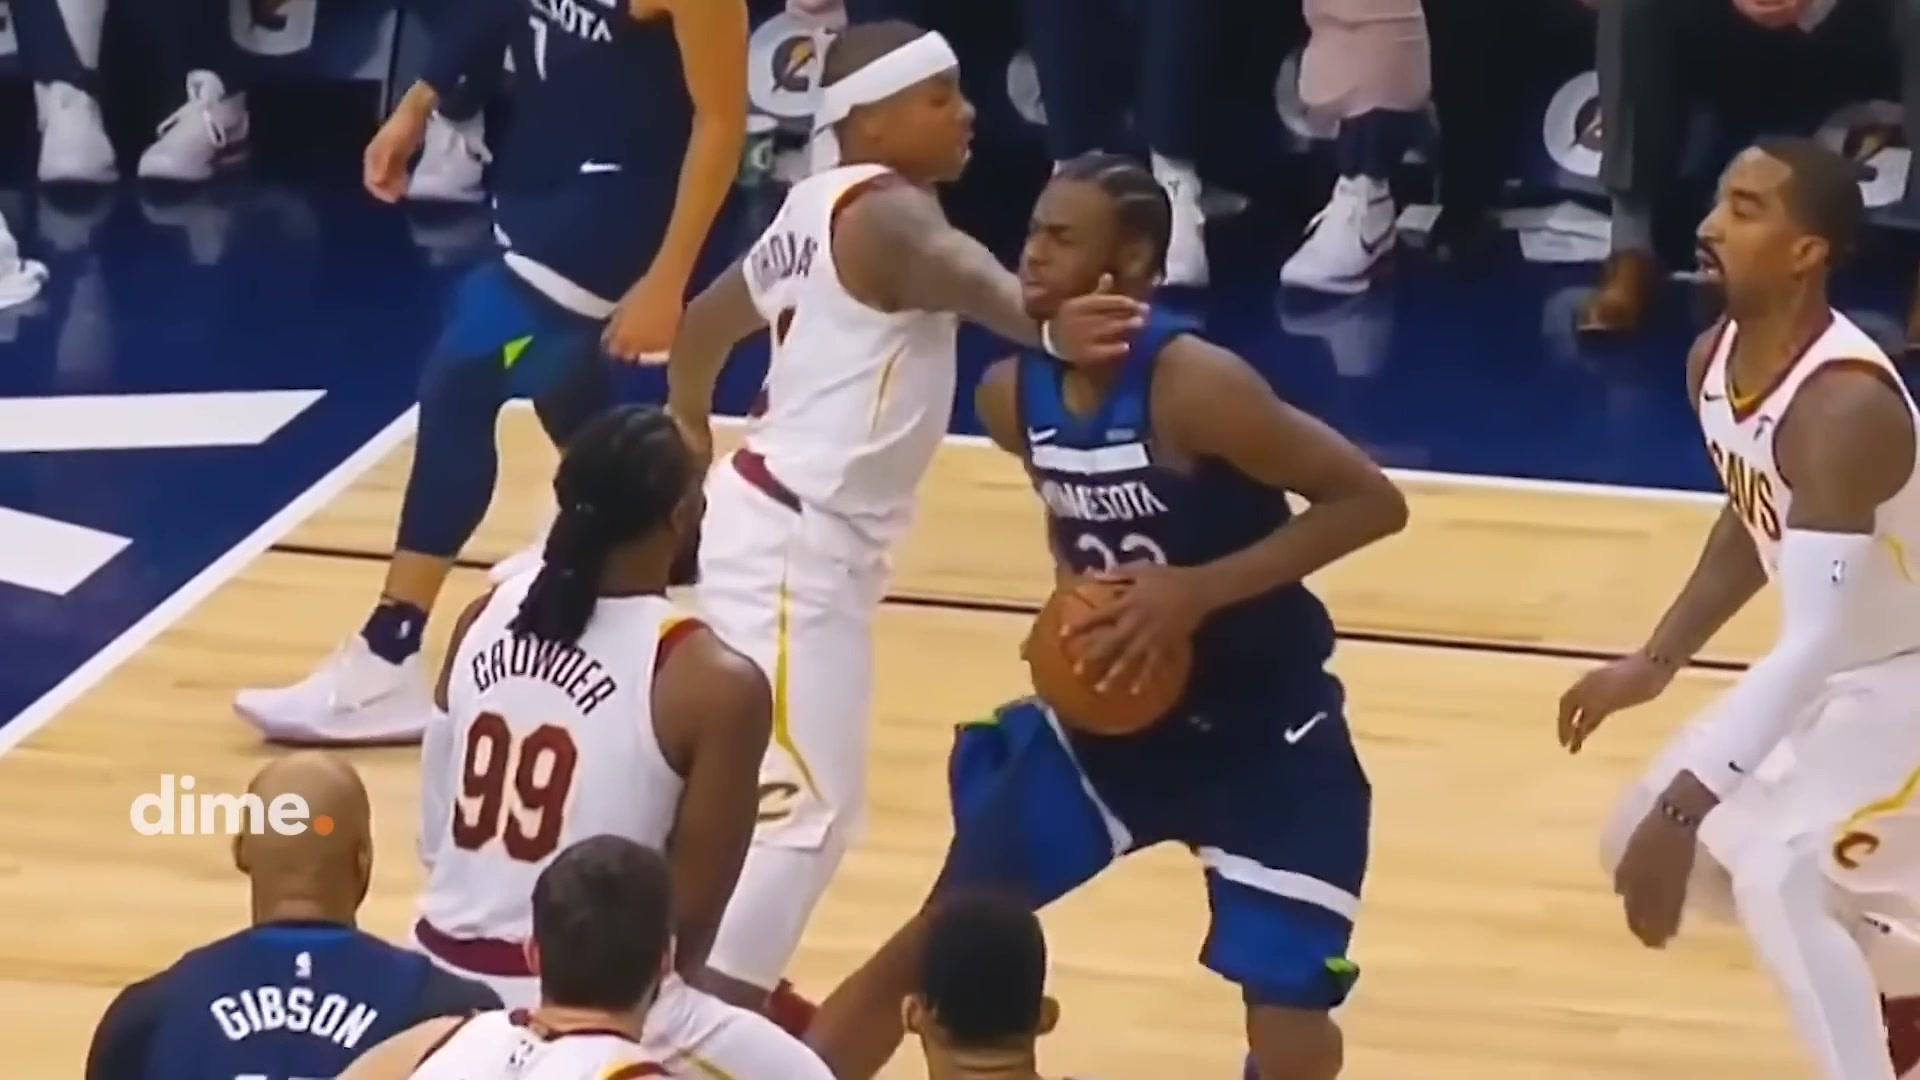foul: (690, 32, 1402, 1080)
